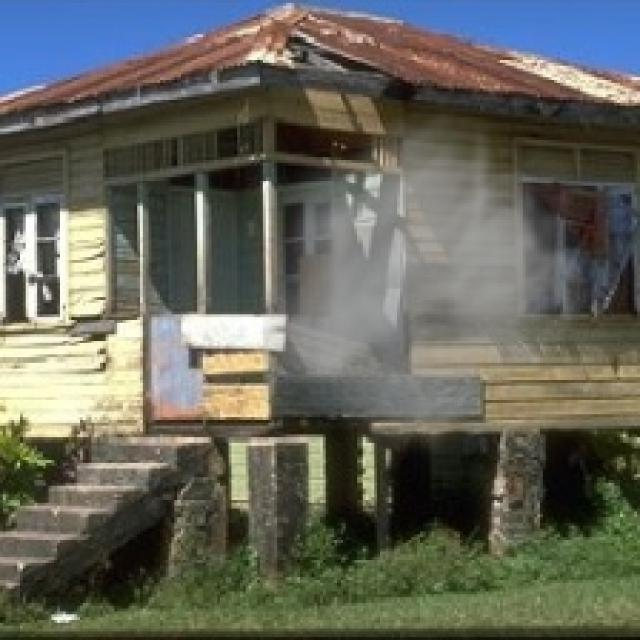smoke: (263, 97, 623, 466)
